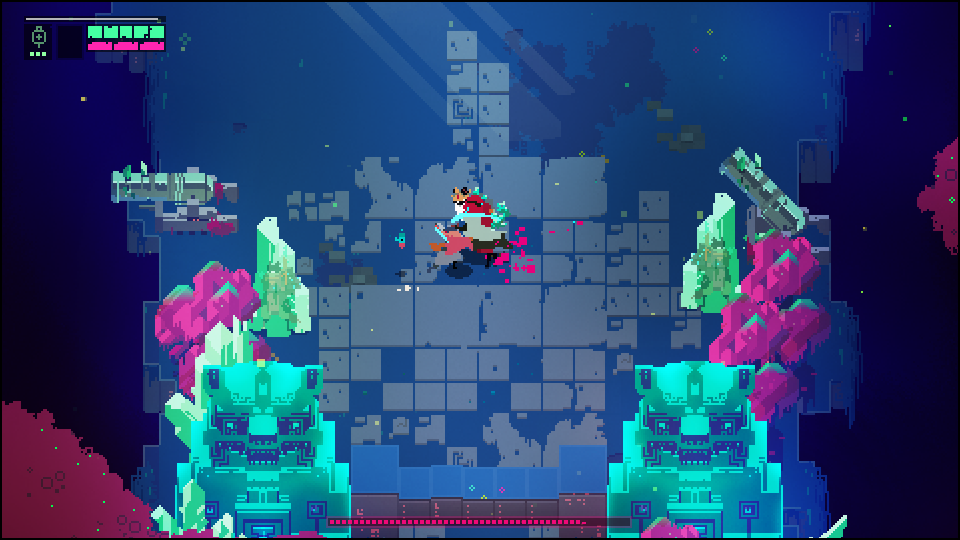hanged_man: (438, 183, 512, 246)
player: (422, 225, 474, 276)
